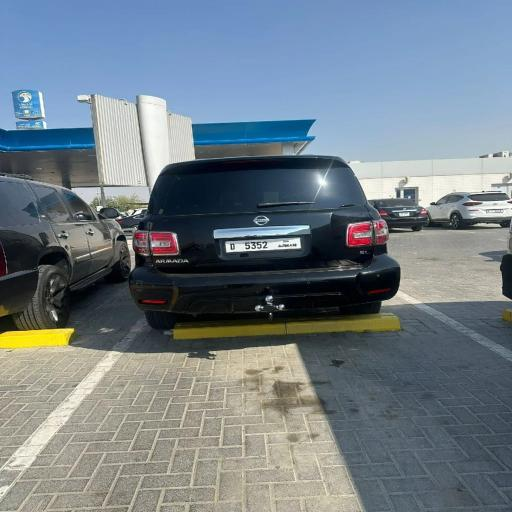license-plates: (225, 237, 301, 252), (486, 209, 503, 213), (399, 212, 410, 217)
